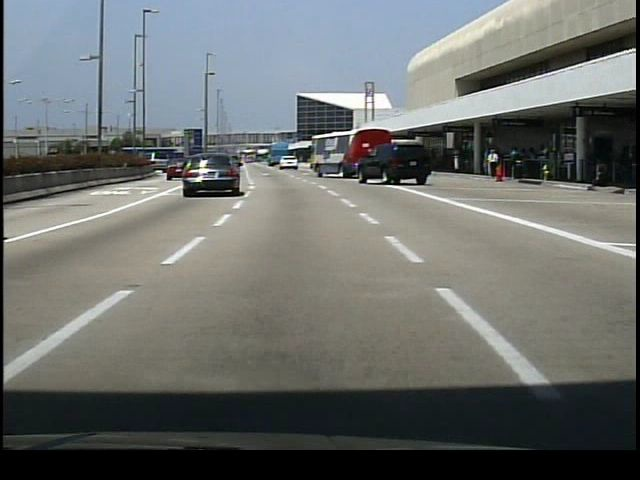person: (485, 147, 500, 182)
